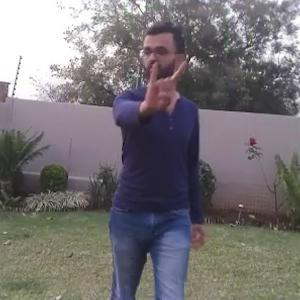takeoff-hand: (138, 55, 195, 112)
